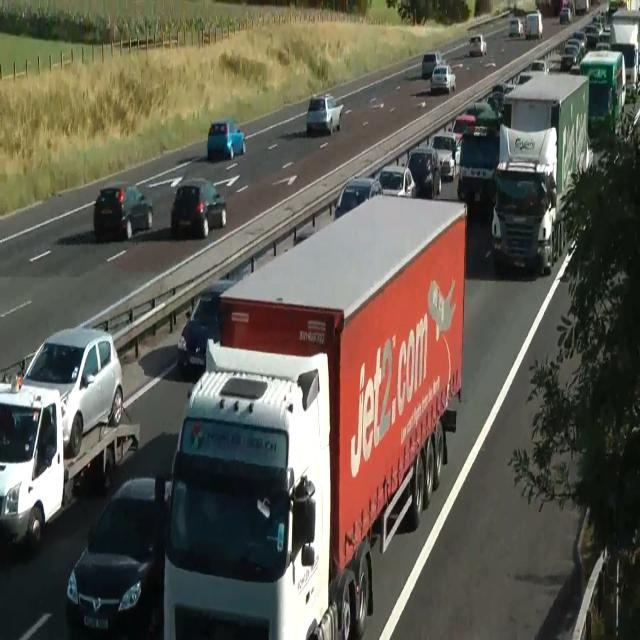bus: (66, 475, 170, 632), (18, 326, 124, 458), (176, 280, 234, 375), (93, 182, 153, 241), (170, 177, 227, 238), (333, 177, 381, 221), (207, 119, 246, 161), (369, 164, 417, 198), (306, 94, 344, 134), (464, 101, 502, 128), (430, 64, 456, 93), (451, 114, 475, 144), (560, 39, 582, 71), (624, 108, 640, 151), (422, 52, 442, 78), (468, 34, 486, 56), (508, 18, 524, 37), (530, 58, 548, 74), (559, 7, 571, 25)
car: (490, 122, 560, 276)
jeep: (456, 123, 499, 204), (405, 145, 441, 197), (430, 130, 458, 180)
minibus: (162, 194, 468, 638), (0, 374, 140, 550), (501, 71, 593, 203), (579, 49, 626, 134), (609, 10, 639, 95), (525, 11, 543, 39)
